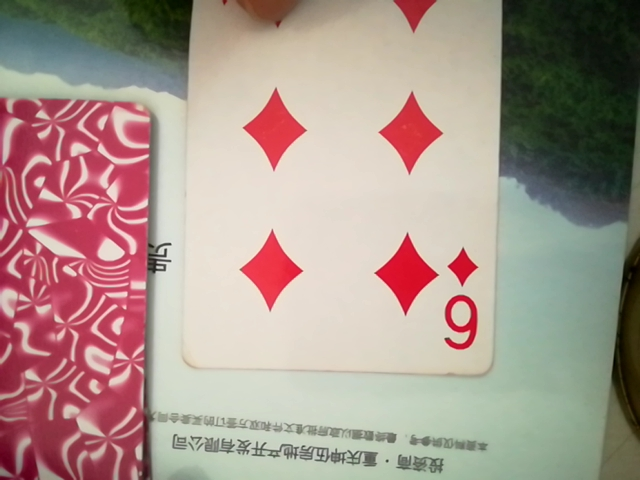fk 6: (152, 0, 515, 389)
